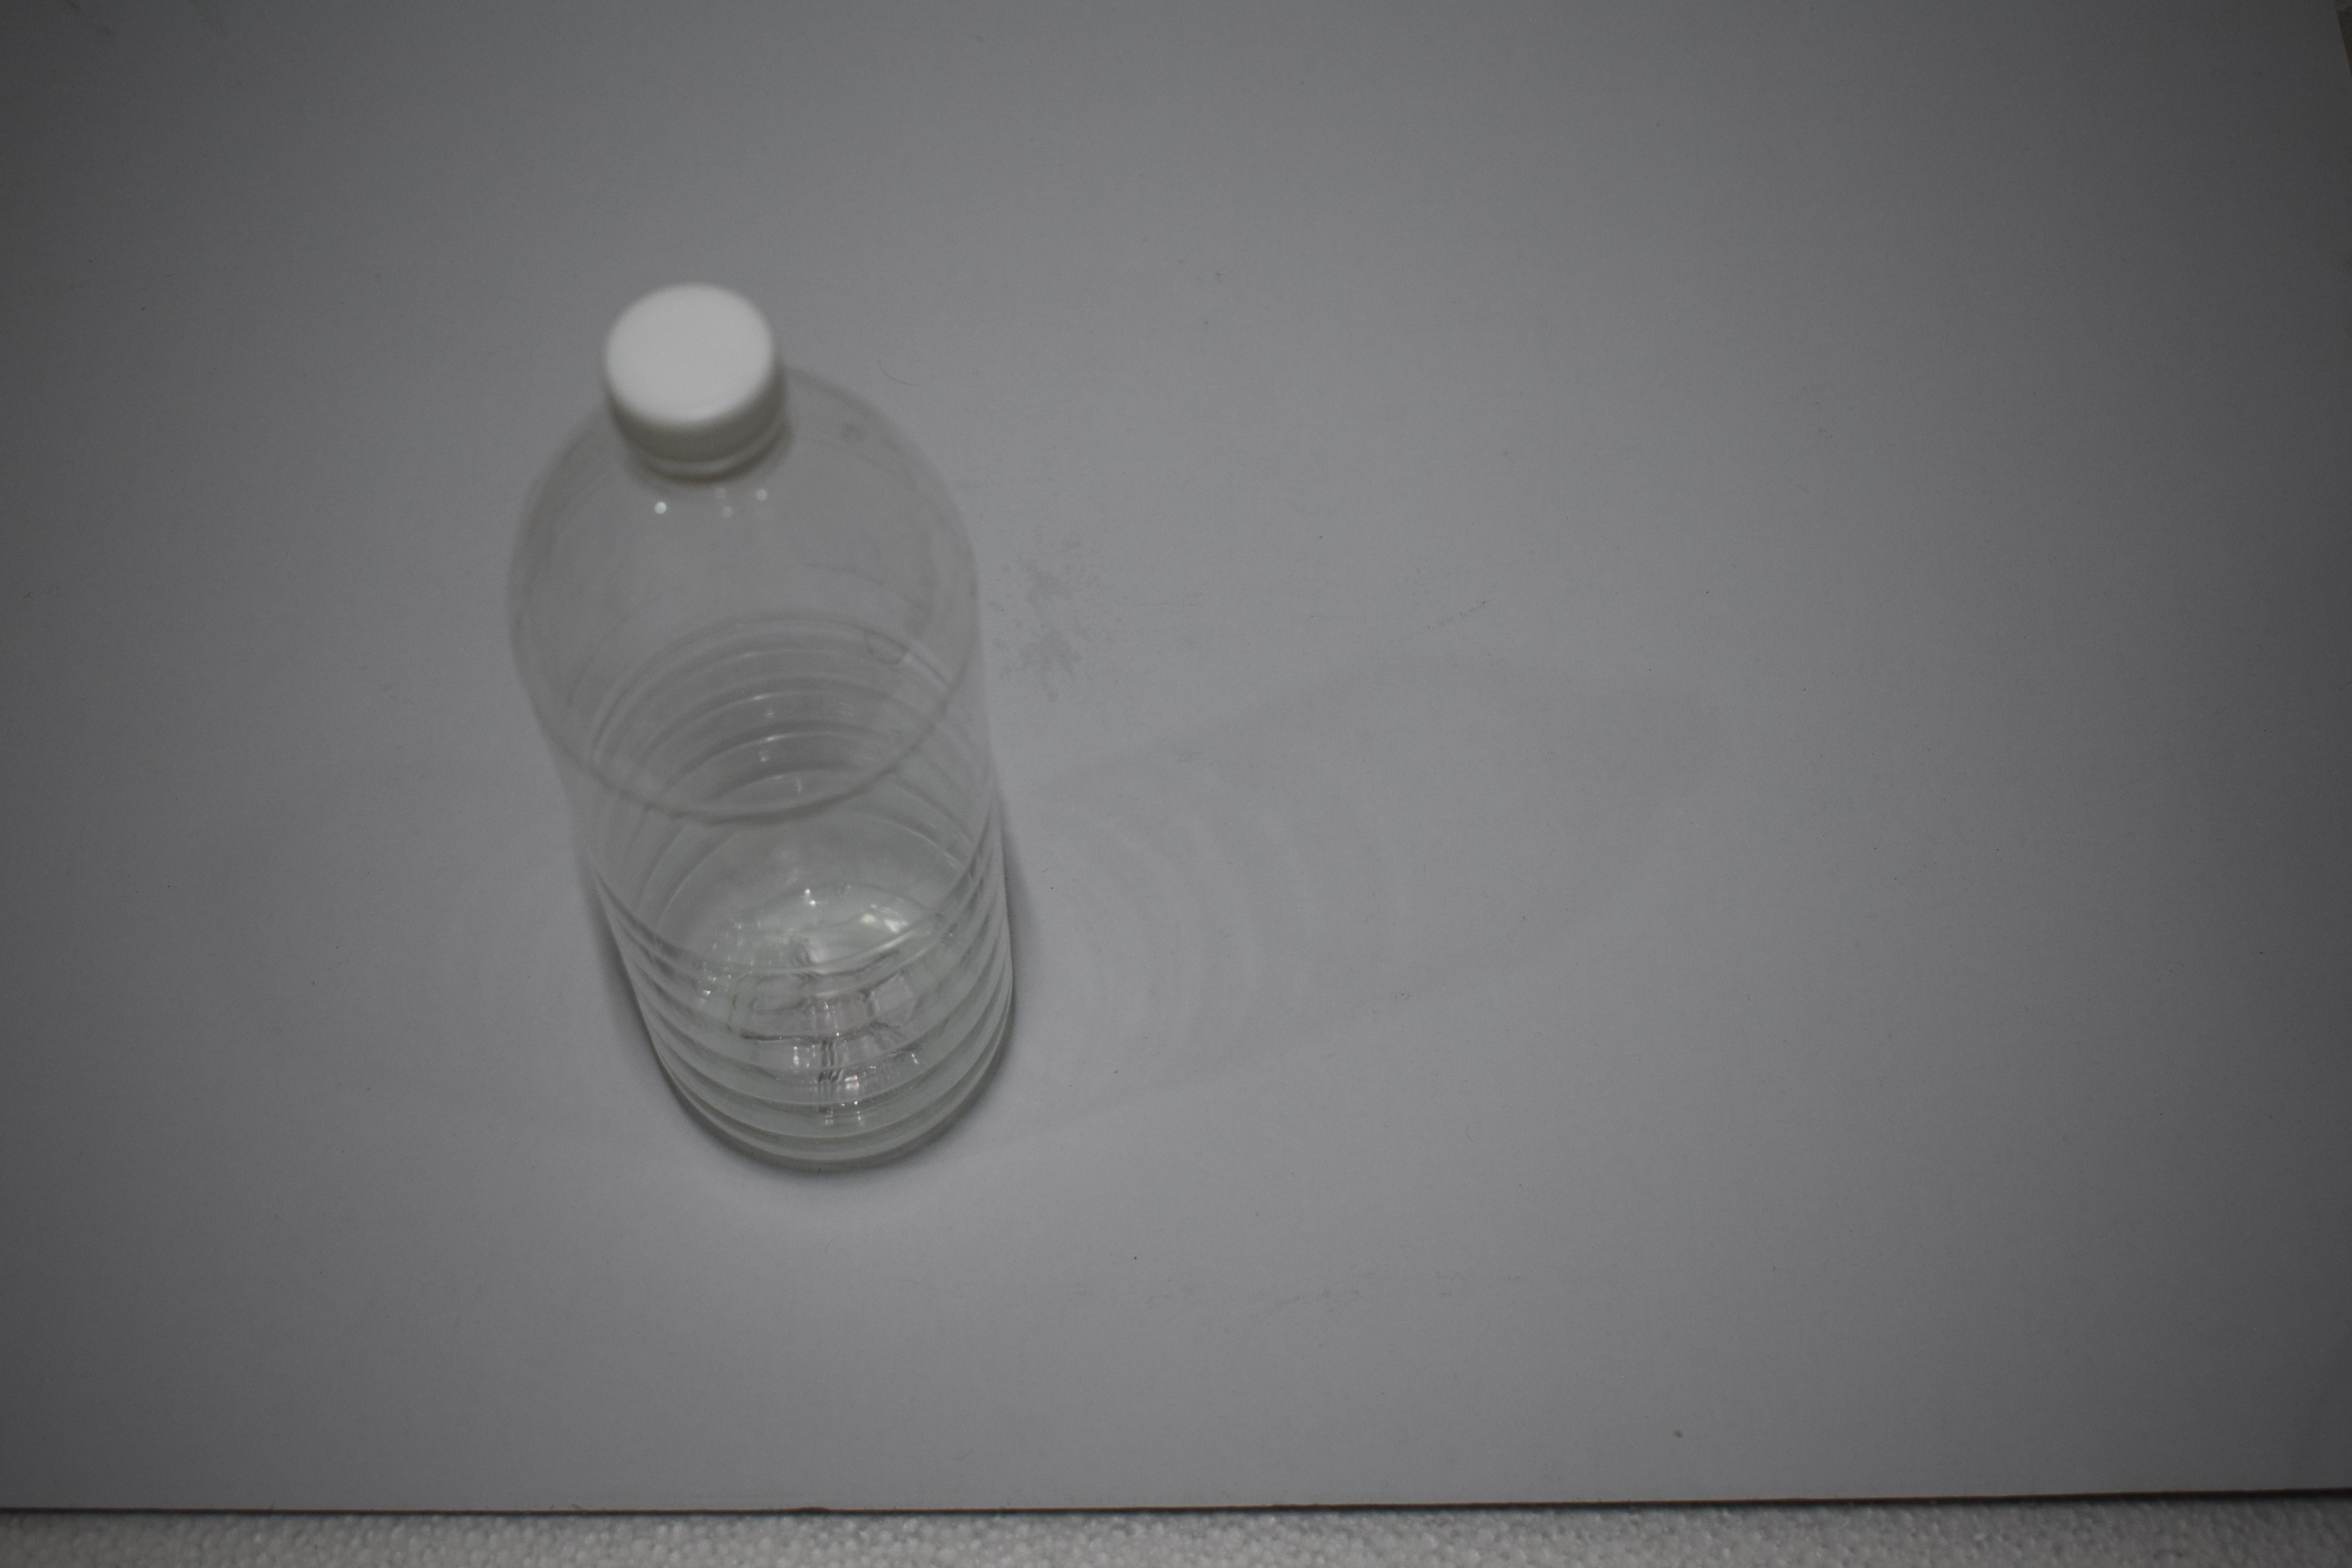bottle: (494, 661, 1031, 788)
